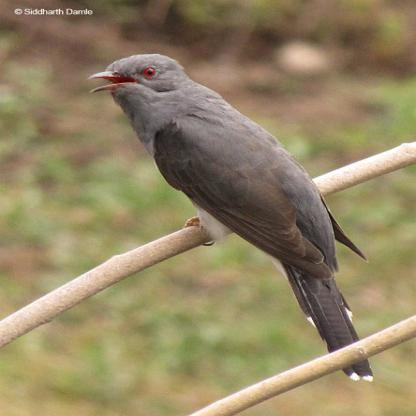Burung: (85, 53, 373, 381)
